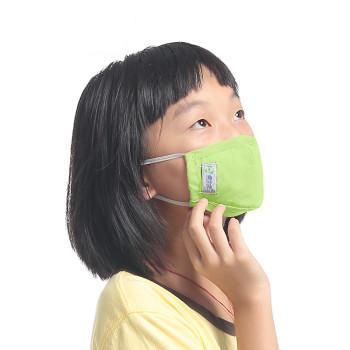OK: (139, 92, 263, 217)
